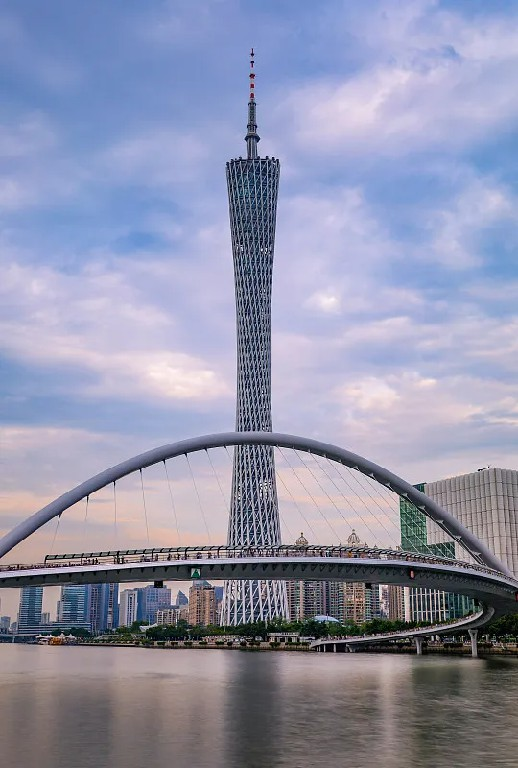Canton: (217, 41, 296, 628)
